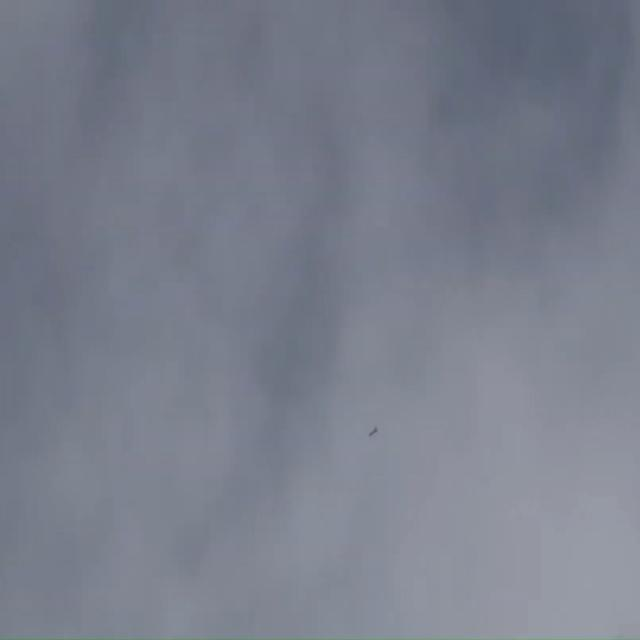Rocket: (369, 426, 378, 437)
